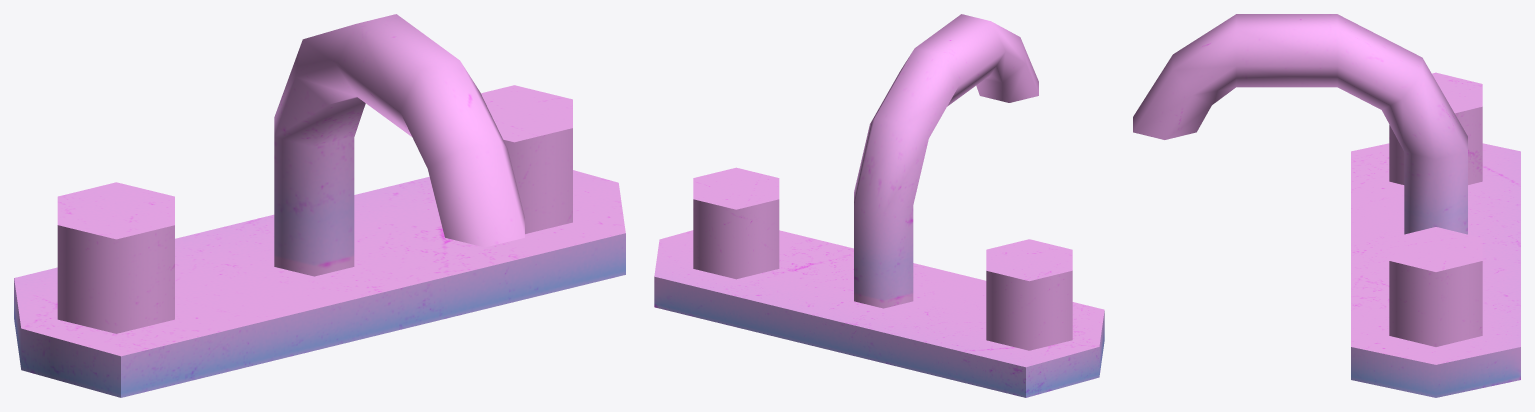
The model's file is SinkFaucet_01_SM_Low.fbx.
3 renders of one model, left to right at view 1: azimuth 30°, elevation 25°; view 2: azimuth 150°, elevation 25°; view 3: azimuth 270°, elevation 25°, orthographic. The views are drawn at different scales.
Visible parts, largest first — view 1: Base, Pipe, Handle1, Handle; view 2: Base, Pipe, Handle1, Handle; view 3: Pipe, Base, Handle, Handle1.
Part boxes in pixels (x1,y1,x2,y2): Base: (14, 170, 625, 397); Pipe: (274, 14, 524, 276); Handle1: (57, 182, 174, 333); Handle: (481, 85, 572, 233); Base: (654, 230, 1104, 397); Pipe: (854, 14, 1038, 308); Handle1: (986, 239, 1072, 350); Handle: (693, 167, 779, 279); Pipe: (1133, 14, 1467, 234); Base: (1351, 143, 1520, 397); Handle: (1389, 227, 1482, 346); Handle1: (1389, 72, 1482, 184).
Bounding box in the file's own units: 0.3795 × 0.1974 × 0.2687.
1 material, 1 textured.
